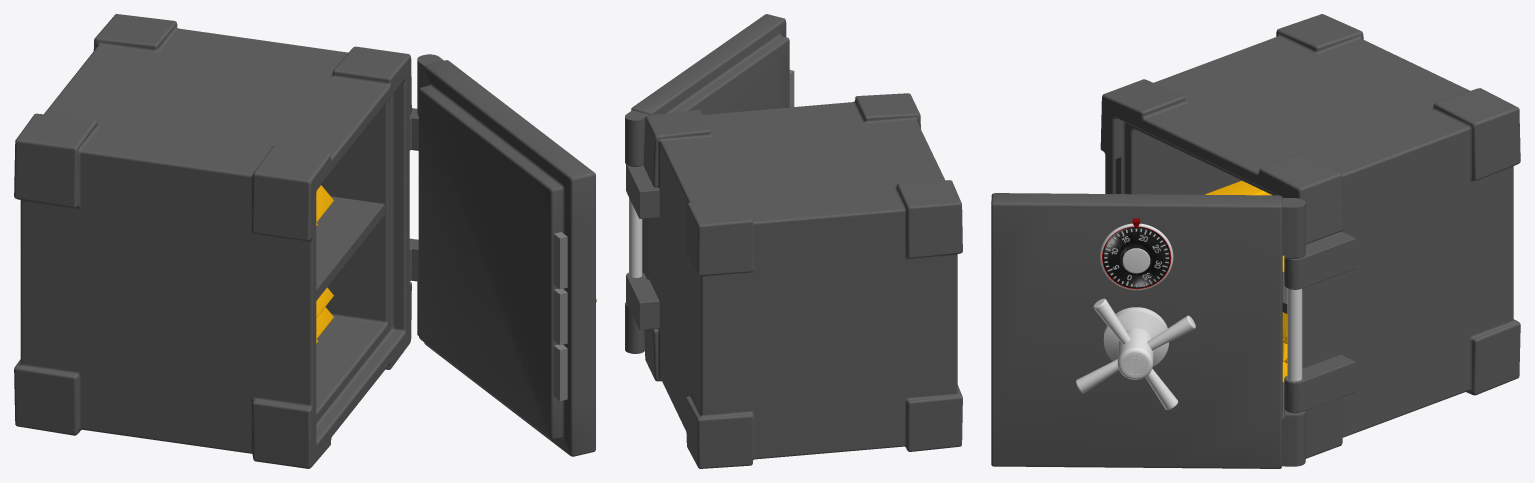
File: caja-fuerte.glb
The picture shows the model from 3 angles, left to right: view 1: azimuth 30°, elevation 25°; view 2: azimuth 150°, elevation 25°; view 3: azimuth 270°, elevation 25°; orthographic projection. The views are drawn at different scales.
Parts seen in each view (by area): view 1: Cube.002, Cube.001; view 2: Cube.002, Cube.001; view 3: Cube.002, Cube.001, Cube.021.
Boxes of the visible parts, box(x1,y1,x2,y2) form: Cube.002: box(14, 14, 418, 468); Cube.001: box(417, 54, 596, 456); Cube.002: box(626, 93, 962, 468); Cube.001: box(625, 14, 794, 353); Cube.002: box(1100, 14, 1520, 458); Cube.001: box(991, 193, 1305, 468); Cube.021: box(1205, 180, 1271, 195).
Bounding box in the file's own units: 1.35 × 0.7978 × 1.39.
Materials: 6 (1 with a texture image).
